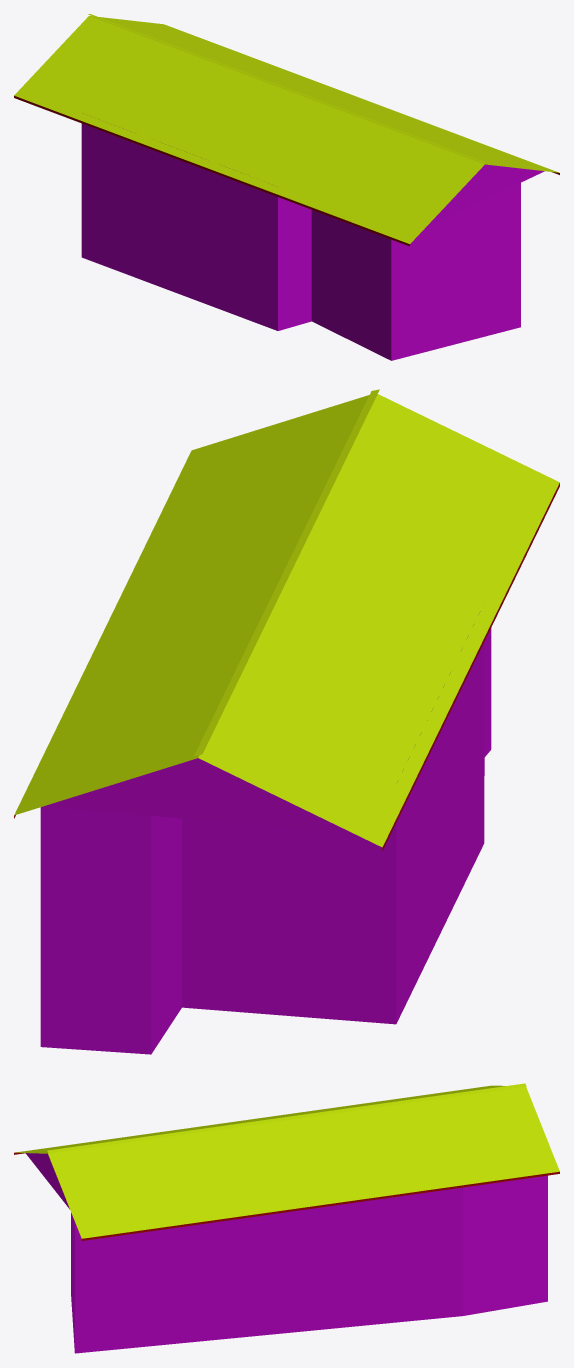
File: bgj_202.glb
The picture shows the model from 3 angles, top to bottom: view 1: azimuth 30°, elevation 25°; view 2: azimuth 150°, elevation 25°; view 3: azimuth 270°, elevation 25°; orthographic projection. The views are drawn at different scales.
Visible parts, largest first — view 1: bgj_202; view 2: bgj_202; view 3: bgj_202.
Part boxes in pixels (x1=…): bgj_202: x1=14, y1=14, x2=559, y2=360; bgj_202: x1=14, y1=389, x2=559, y2=1054; bgj_202: x1=14, y1=1083, x2=559, y2=1353.
Bounding box in the file's own units: 17.8 × 9.67 × 26.78.
